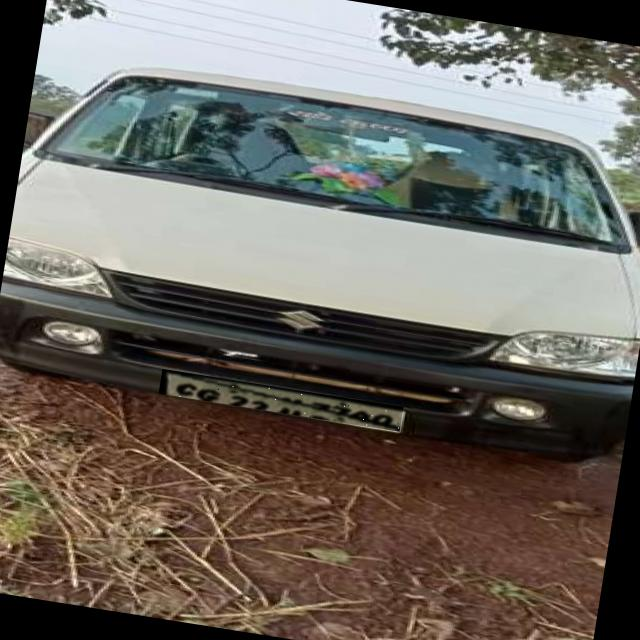Plate: (160, 370, 405, 433)
